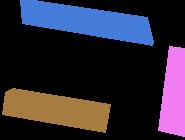parkingspot: (20, 0, 153, 45), (2, 88, 110, 132), (158, 46, 185, 136)
